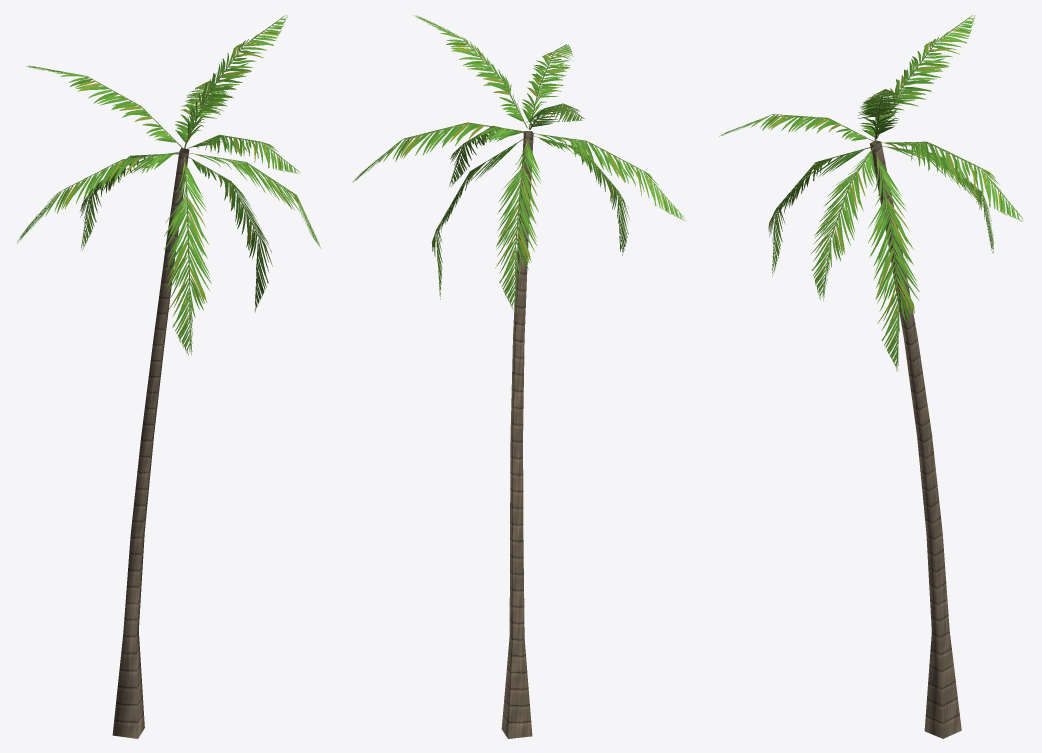
Rendered from palma_bl_c_lo.glb.
The picture shows the model from 3 angles, left to right: view 1: azimuth 30°, elevation 25°; view 2: azimuth 150°, elevation 25°; view 3: azimuth 270°, elevation 25°; orthographic projection. The views are drawn at different scales.
Visible parts, largest first — view 1: palma_bl_c_lo; view 2: palma_bl_c_lo; view 3: palma_bl_c_lo.
Part boxes in pixels (<box>): palma_bl_c_lo: <box>17,15,320,738</box>; palma_bl_c_lo: <box>352,15,685,738</box>; palma_bl_c_lo: <box>719,15,1023,738</box>.
Size of the model in its own units: 4.13 by 9.85 by 3.96.
Materials: 2 (2 with a texture image).
